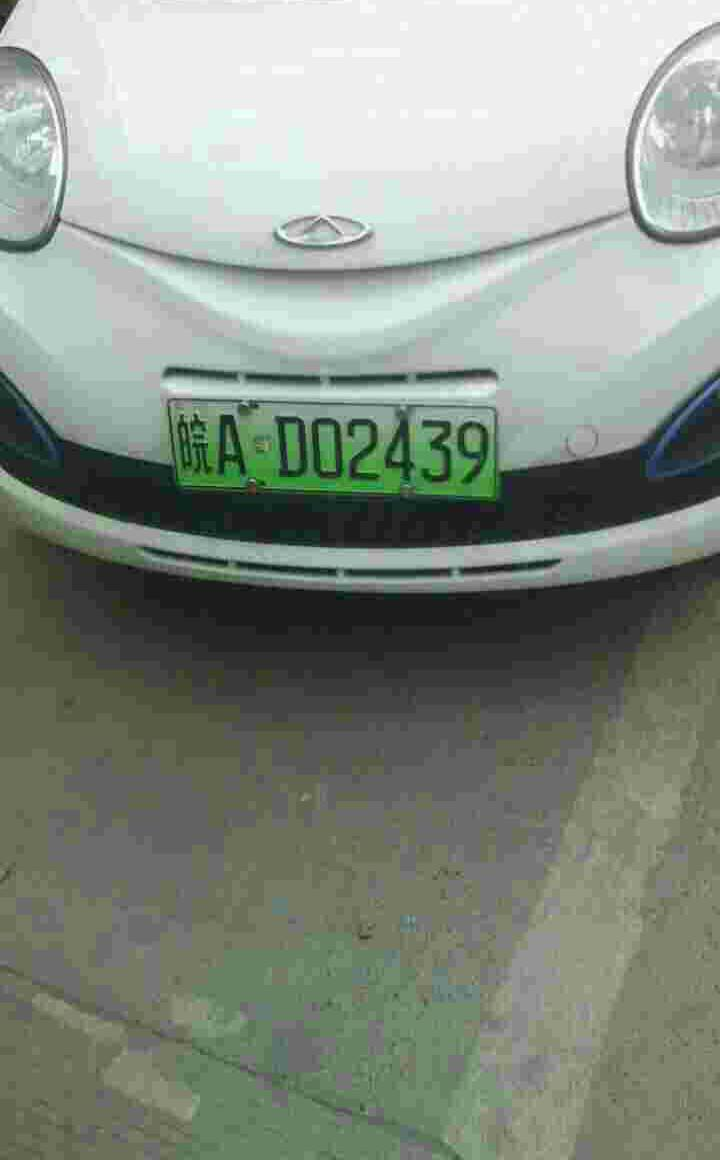car_id: (163, 396, 496, 496)
